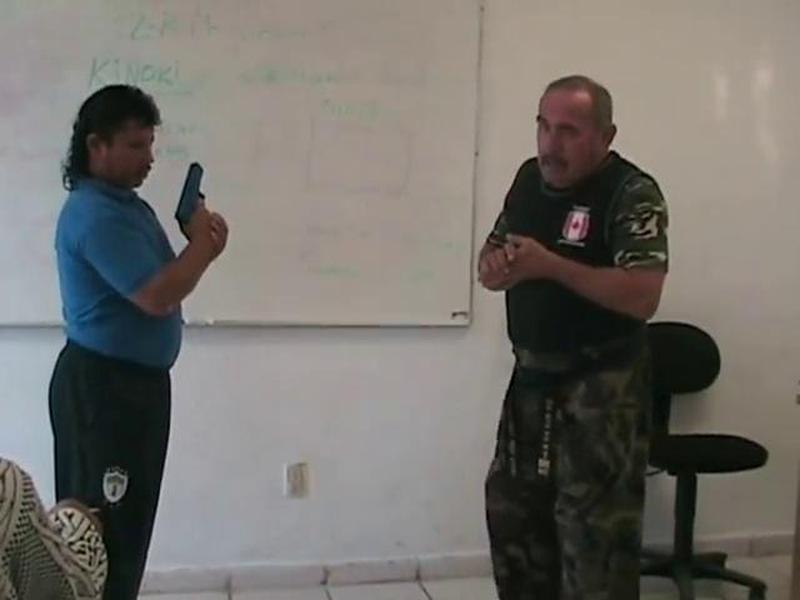Pistola: (169, 144, 210, 236)
